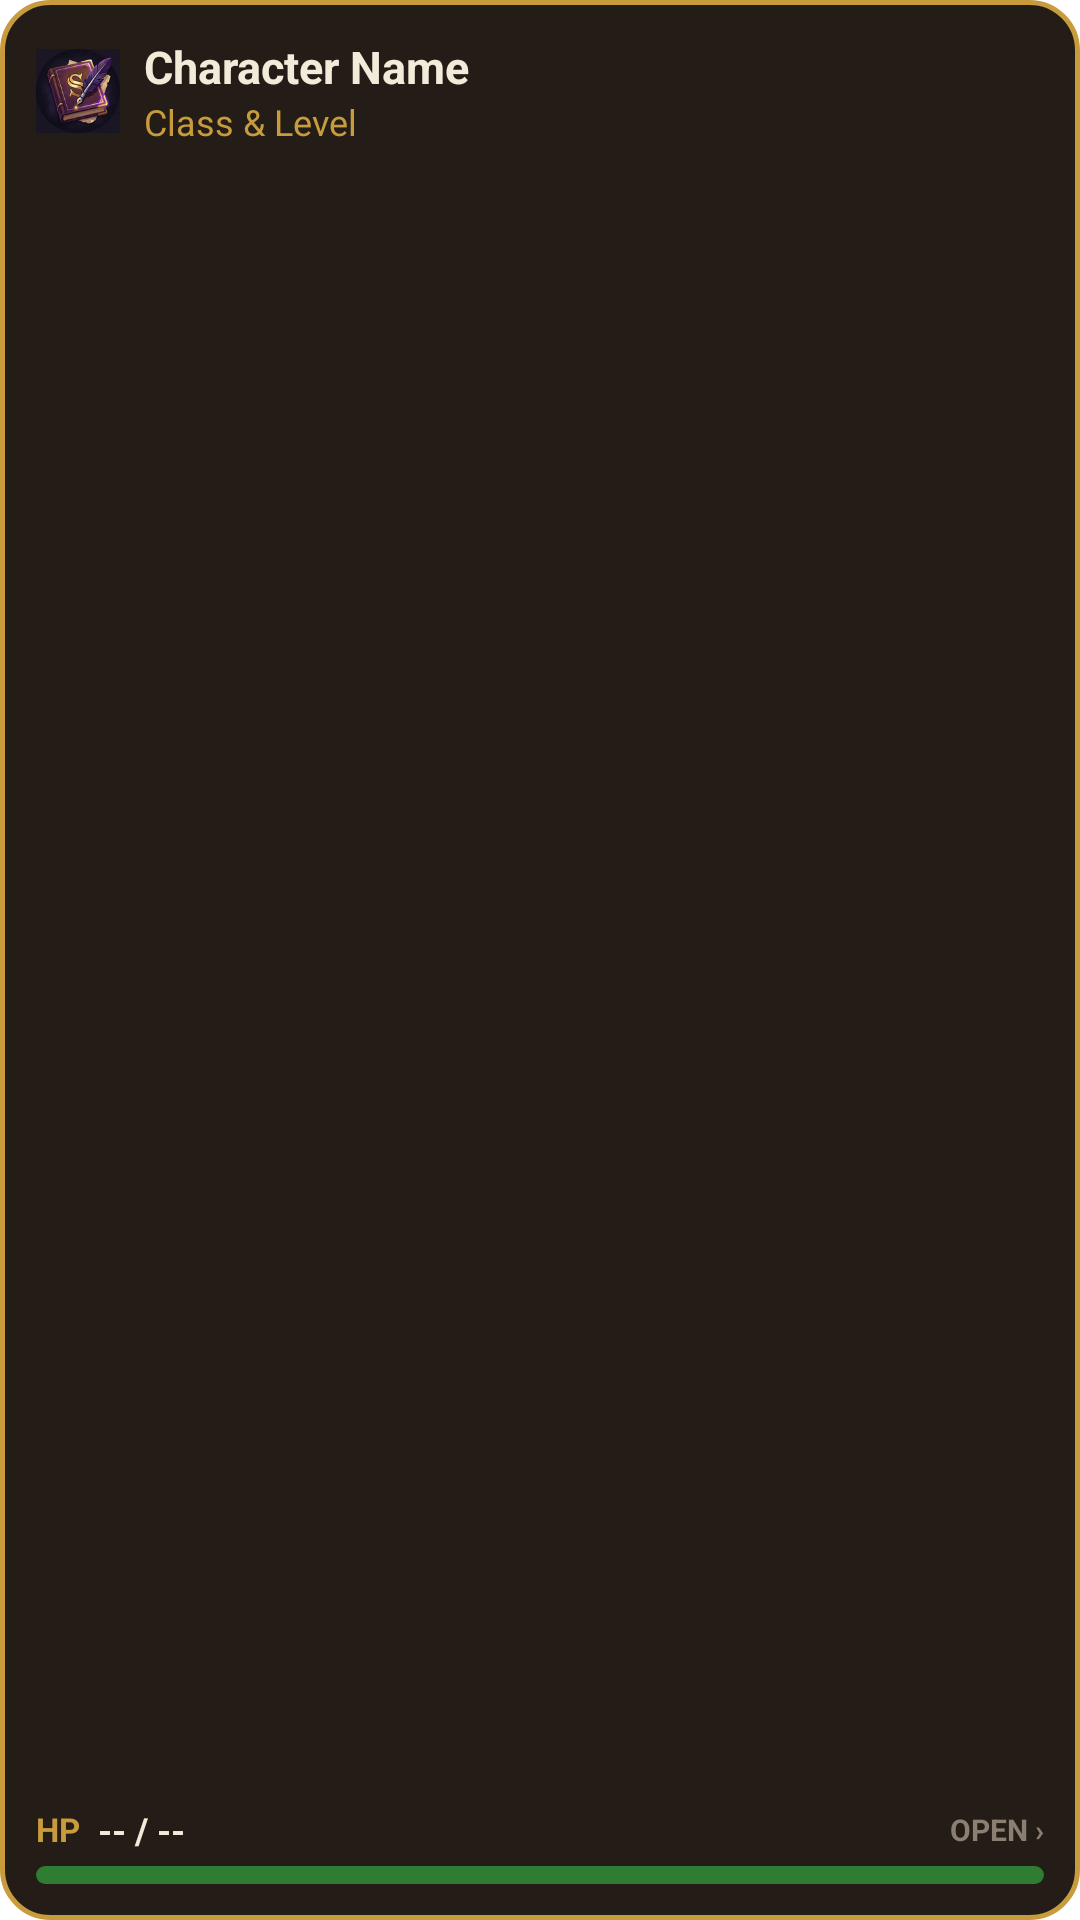

Screen size 1080×1920. Icon name, then its box in pixels as (x1=x1, y1=y1, x2=x2, y2=y2):
widget scrivener: (x1=46, y1=57, x2=112, y2=124)
